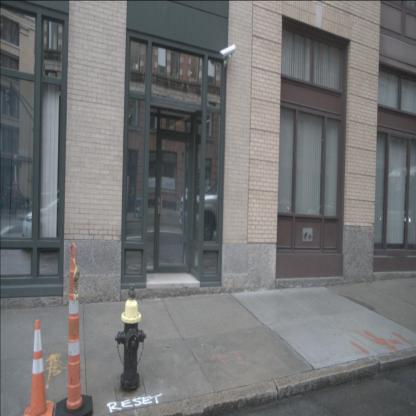movable_object-trafficcone: (55, 243, 93, 416), (23, 318, 54, 416)
vehicle-bus-rigid: (380, 163, 416, 253)
vehicle-car: (180, 170, 286, 244), (22, 187, 129, 253), (0, 186, 30, 210)
